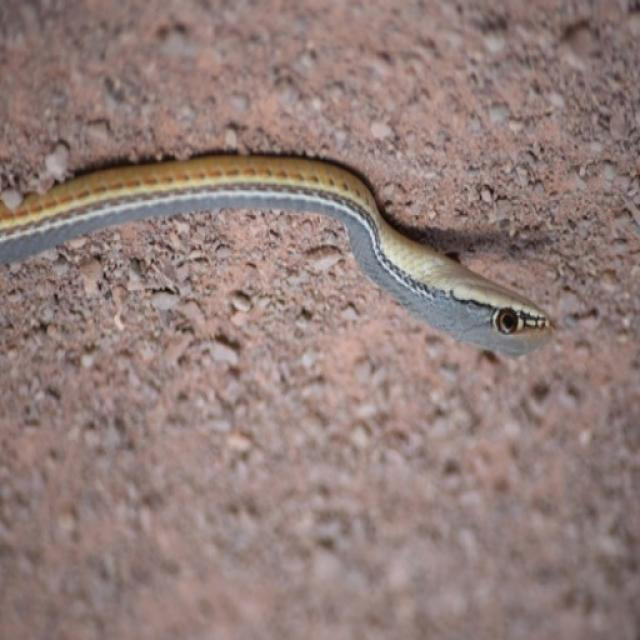snake: (0, 133, 563, 374)
